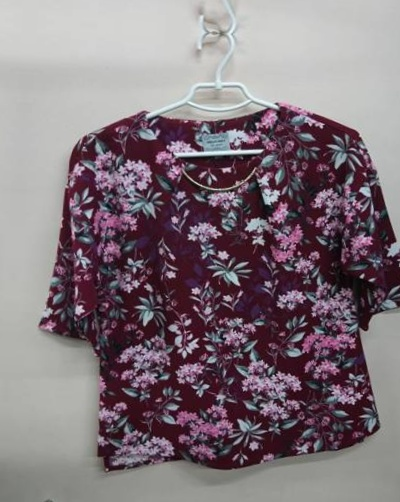Blouse: (25, 66, 400, 502), (57, 0, 400, 3), (0, 38, 2, 476)
